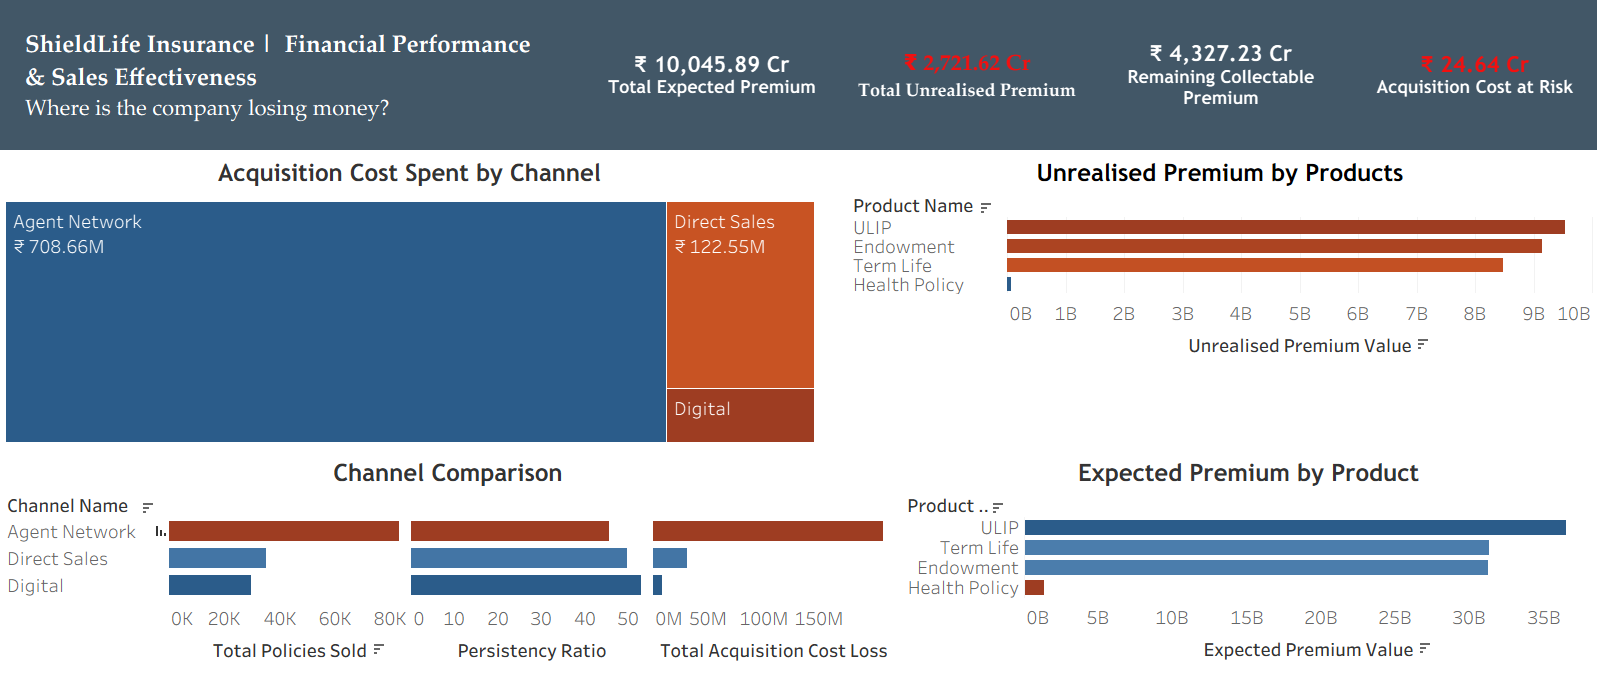

The dashboard page shown, as its layout file describes it:
{"tool":"tableau","page":{"name":"Retention & Behaviour Analysis (2)","canvas":[1600,750],"ordinal":2},"visuals":[{"type":"text","box":[0,0,581,150]},{"type":"worksheet","title":"FS.KPI - Total Expected Premium","mark":"Automatic","box":[581,0,267,150]},{"type":"worksheet","title":"FS.KPI - Total Unrealised Premium","mark":"Automatic","box":[848,0,244,150]},{"type":"worksheet","title":"FS.KPI - Remaining Collectable Premium","mark":"Automatic","box":[1092,0,264,150]},{"type":"worksheet","title":"FS.KPI - Acquisition Cost at Risk","mark":"Automatic","box":[1356,0,244,150]},{"type":"legend","title":"Expected Premium by Product","param":"[federated.15bhsvj123fiyr1ew3xop0fr8s9d].[sum:expected_premium_value:qk]","box":[1432,8,160,81]},{"type":"worksheet","title":"Acquisition Cost Spent by Channel","mark":"Automatic","box":[0,150,846,300]},{"type":"worksheet","title":"Unrealised Premium by Products","mark":"Automatic","rows":["product_name"],"cols":["unrealised_premium_value"],"box":[846,150,754,300]},{"type":"worksheet","title":"Channel Comparison","mark":"Automatic","rows":["channel_name"],"cols":["policy_id","Calculation_0279022057062401","Calculation_0771053569114114"],"box":[0,450,903,300]},{"type":"worksheet","title":"Expected Premium by Product","mark":"Automatic","rows":["product_name"],"cols":["expected_premium_value"],"box":[903,450,697,300]}]}

Visuals, with their boxes on the page's 1600x750 design canvas (x1, y1, x2, y2). These are canvas units, not pixel positions in the 1597x693 screenshot, which may show the page scaled, cropped or inside an application window:
text: (0,0,581,150)
"FS.KPI - Total Expected Premium" worksheet: (581,0,848,150)
"FS.KPI - Total Unrealised Premium" worksheet: (848,0,1092,150)
"FS.KPI - Remaining Collectable Premium" worksheet: (1092,0,1356,150)
"FS.KPI - Acquisition Cost at Risk" worksheet: (1356,0,1600,150)
"Expected Premium by Product" legend: (1432,8,1592,89)
"Acquisition Cost Spent by Channel" worksheet: (0,150,846,450)
"Unrealised Premium by Products" worksheet: (846,150,1600,450)
"Channel Comparison" worksheet: (0,450,903,750)
"Expected Premium by Product" worksheet: (903,450,1600,750)
